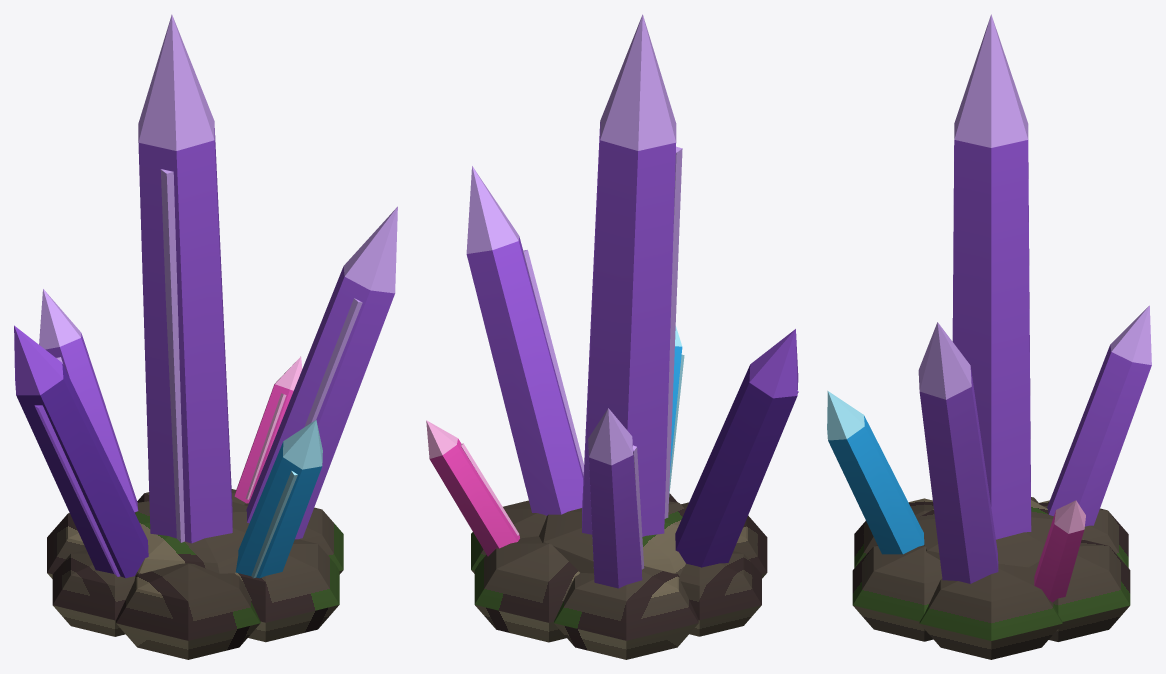
Rendered from crystal_spire.glb.
3 views of the same model, side by side, from view 1: azimuth 30°, elevation 25°; view 2: azimuth 150°, elevation 25°; view 3: azimuth 270°, elevation 25° (orthographic). The views are drawn at different scales.
Parts seen in each view (by area): view 1: crystal_spire; view 2: crystal_spire; view 3: crystal_spire.
Part boxes in pixels (x1,y1,x2,y2): crystal_spire: (14,14,397,659); crystal_spire: (426,14,798,659); crystal_spire: (827,14,1151,659).
Size of the model in its own units: 2.06 by 3.4 by 1.68.
2 materials, 1 textured.
